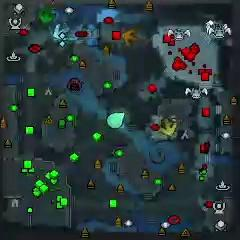p2: (107, 112, 126, 129)
x2: (160, 117, 176, 136)
x3: (53, 23, 71, 42)
x4: (37, 4, 56, 23)
x5: (121, 28, 140, 46)
